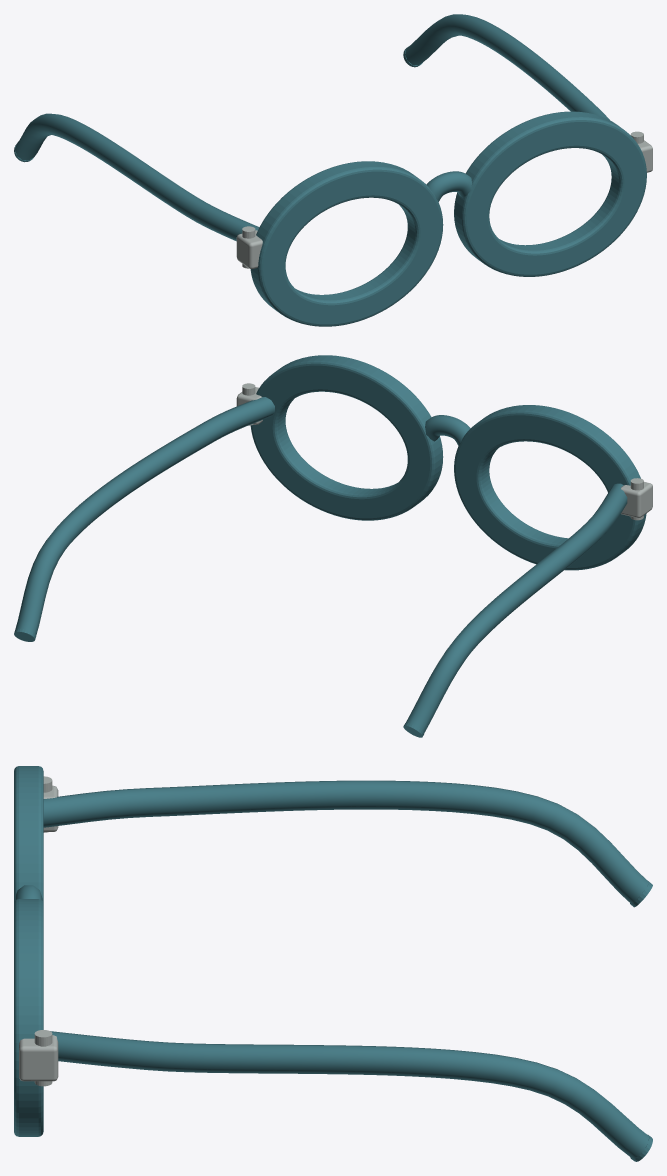
File: optician-and-optical-lens-workshop-optician-and-optica-d1329752__31688.glb
3 views of the same model, one above another, from view 1: azimuth 30°, elevation 25°; view 2: azimuth 150°, elevation 25°; view 3: azimuth 270°, elevation 25° (orthographic). The views are drawn at different scales.
Visible parts, largest first — view 1: optician-and-optical-lens-workshop-acetate-spectacle-frame; view 2: optician-and-optical-lens-workshop-acetate-spectacle-frame; view 3: optician-and-optical-lens-workshop-acetate-spectacle-frame.
Part boxes in pixels (<box>): optician-and-optical-lens-workshop-acetate-spectacle-frame: <box>14,14,652,326</box>; optician-and-optical-lens-workshop-acetate-spectacle-frame: <box>14,355,652,737</box>; optician-and-optical-lens-workshop-acetate-spectacle-frame: <box>14,766,652,1161</box>.
Size of the model in its own units: 0.1342 by 0.046 by 0.13.
